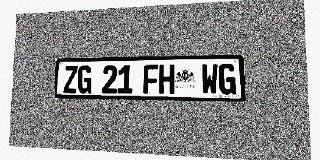1: (117, 65, 132, 94)
2: (102, 65, 117, 94)
F: (143, 64, 158, 94)
G: (219, 63, 236, 95), (77, 65, 92, 93)
H: (159, 64, 175, 94)
W: (201, 64, 218, 94)
Z: (63, 66, 78, 93)
